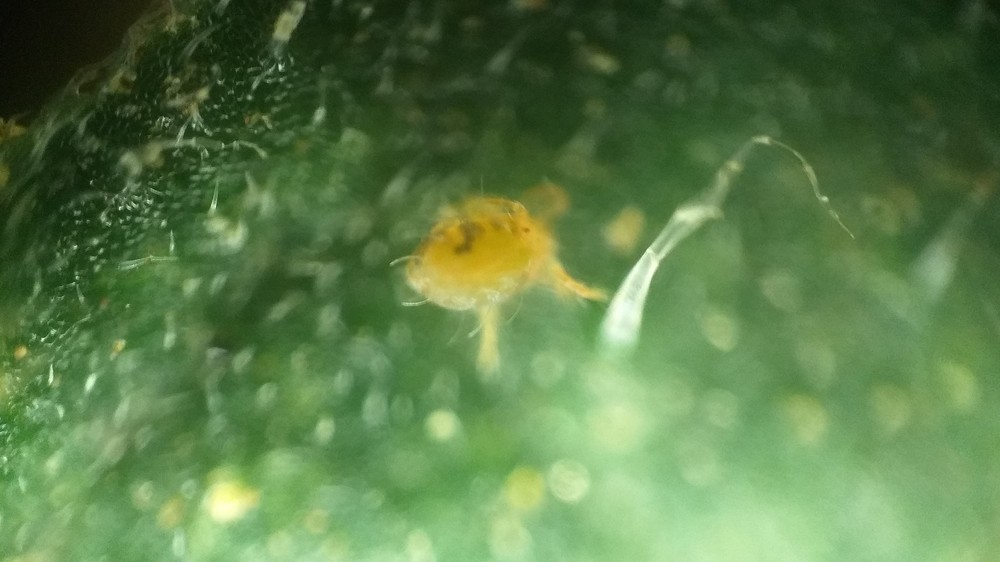Aracnido Rojo: (380, 169, 649, 380)
